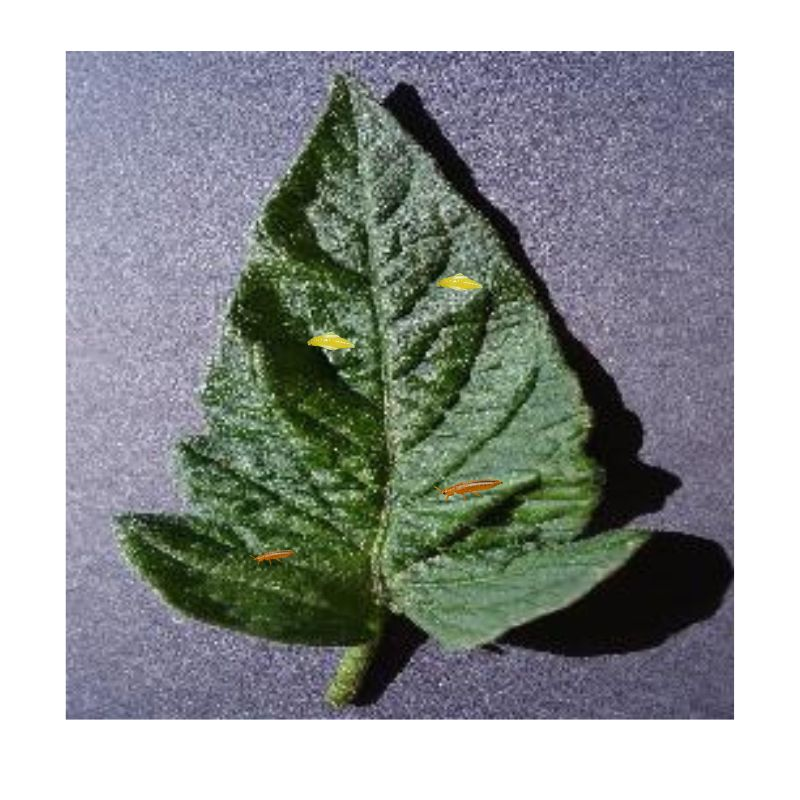thrips: (436, 478, 502, 501), (304, 331, 356, 352), (435, 271, 482, 293), (250, 547, 295, 565)
